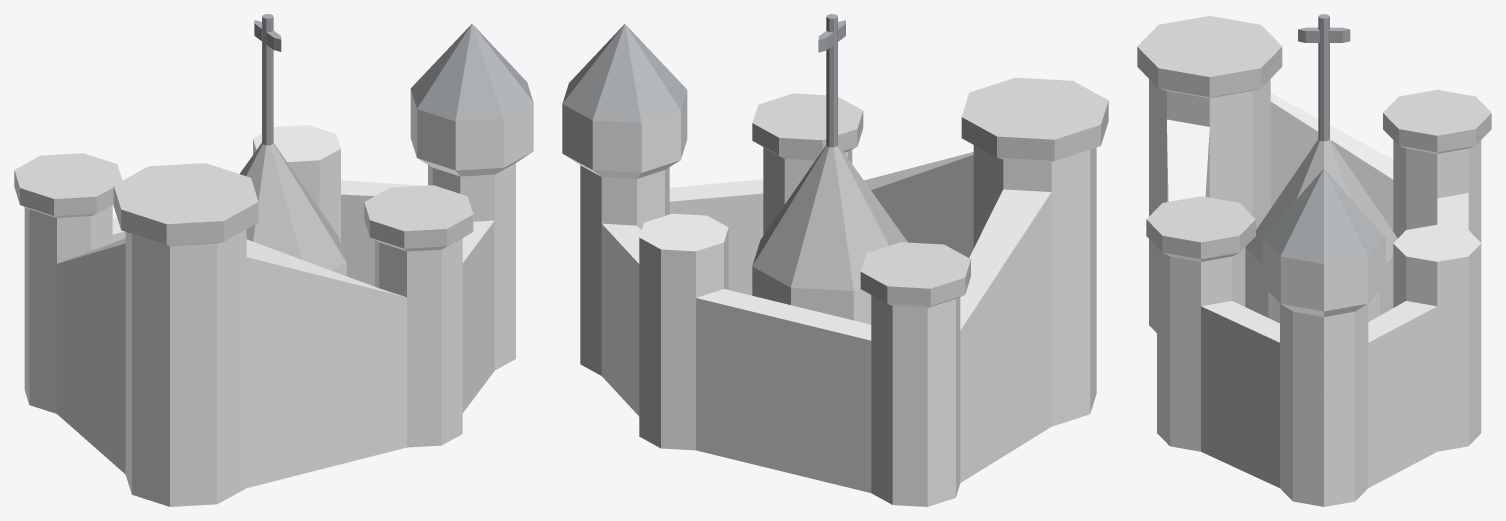
The model's file is Snowcastle.fbx.
3 views of the same model, side by side, from view 1: azimuth 30°, elevation 25°; view 2: azimuth 150°, elevation 25°; view 3: azimuth 270°, elevation 25° (orthographic). The views are drawn at different scales.
Parts seen in each view (by area): view 1: Cylinder.062; view 2: Cylinder.062; view 3: Cylinder.062.
Part boxes in pixels (bbox=[...]): Cylinder.062: bbox=[14, 14, 533, 506]; Cylinder.062: bbox=[562, 14, 1108, 506]; Cylinder.062: bbox=[1137, 14, 1491, 506].
Size of the model in its own units: 452 by 360 by 308.
